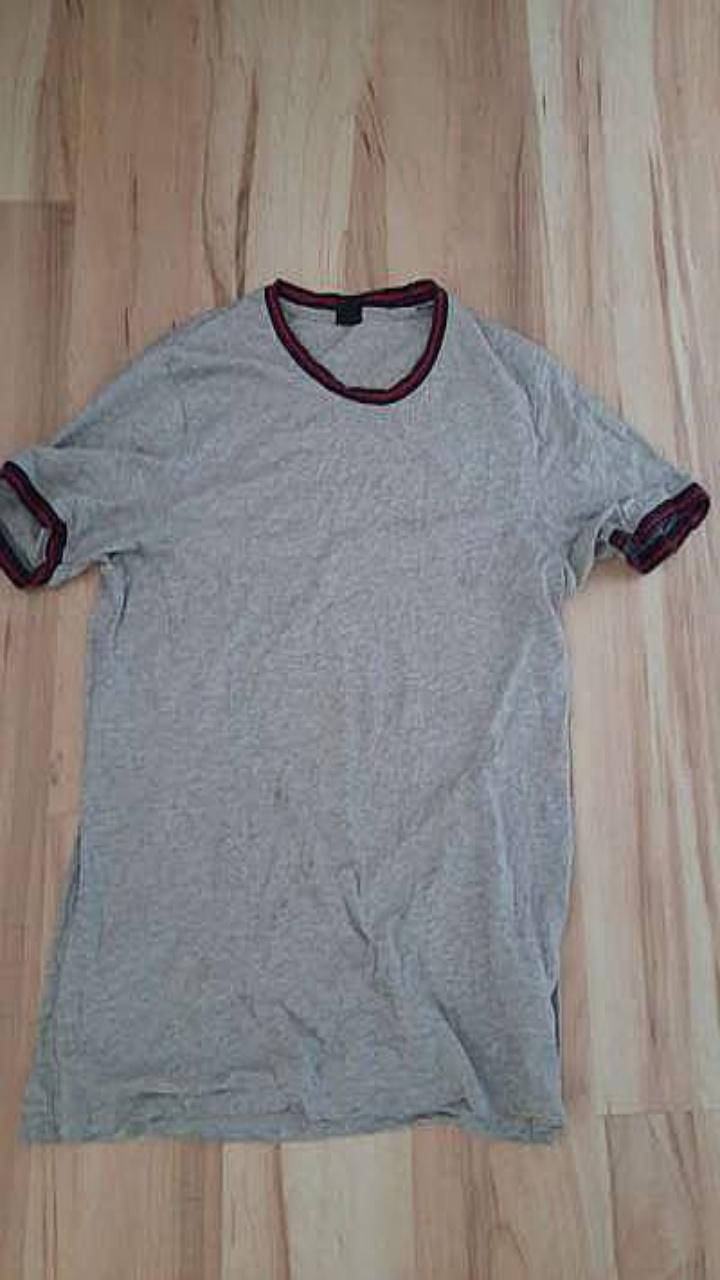T-Shirt: (0, 278, 709, 1141)
